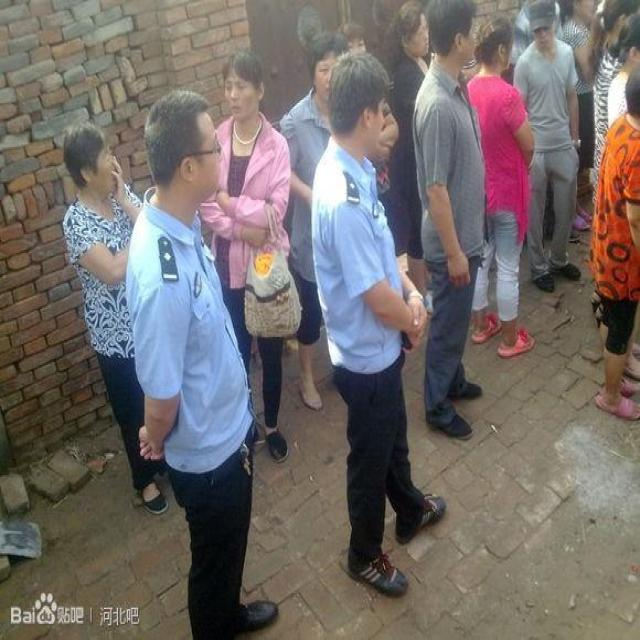non-fight: (123, 81, 281, 638), (309, 53, 446, 599), (410, 0, 490, 446), (585, 0, 639, 424)
